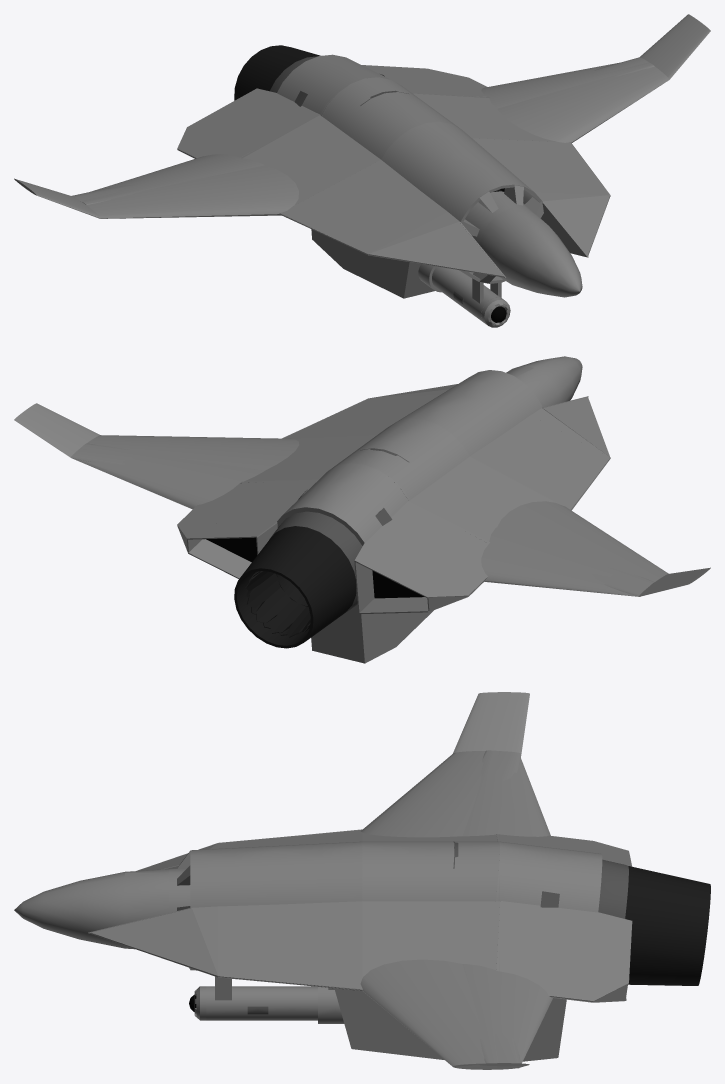
Rendered from !avh2_export.obj.
3 renders of one model, top to bottom at view 1: azimuth 30°, elevation 25°; view 2: azimuth 150°, elevation 25°; view 3: azimuth 270°, elevation 25°, orthographic. The views are drawn at different scales.
Parts seen in each view (by area): view 1: Mesh_22, Mesh_71, Mesh_36, Mesh_2, Mesh_33, Mesh_6, Mesh_17, Mesh_39, Mesh_5, Mesh_3, Mesh_30, Mesh_37 (+19 smaller); view 2: Mesh_41, Mesh_22, Mesh_39, Mesh_71, Mesh_73, Mesh_33, Mesh_6, Mesh_37, Mesh_69, Mesh_36, Mesh_38, Mesh_89 (+21 smaller); view 3: Mesh_17, Mesh_36, Mesh_41, Mesh_32, Mesh_6, Mesh_38, Mesh_2, Mesh_71, Mesh_37, Mesh_69, Mesh_3, Mesh_5 (+15 smaller).
Boxes of the visible parts, left/top/right/bottom form: Mesh_22: left=280, top=160, right=447, bottom=254; Mesh_71: left=72, top=165, right=298, bottom=218; Mesh_36: left=497, top=57, right=669, bottom=142; Mesh_2: left=480, top=207, right=582, bottom=297; Mesh_33: left=240, top=115, right=380, bottom=213; Mesh_6: left=320, top=77, right=461, bottom=159; Mesh_17: left=472, top=138, right=609, bottom=194; Mesh_39: left=177, top=93, right=319, bottom=158; Mesh_5: left=421, top=153, right=542, bottom=283; Mesh_3: left=381, top=121, right=497, bottom=190; Mesh_30: left=368, top=222, right=503, bottom=276; Mesh_37: left=277, top=54, right=399, bottom=116; Mesh_41: left=234, top=526, right=356, bottom=648; Mesh_22: left=470, top=415, right=610, bottom=509; Mesh_39: left=365, top=501, right=489, bottom=595; Mesh_71: left=497, top=501, right=668, bottom=596; Mesh_73: left=481, top=527, right=654, bottom=596; Mesh_33: left=409, top=456, right=557, bottom=543; Mesh_6: left=327, top=418, right=469, bottom=500; Mesh_37: left=277, top=463, right=410, bottom=613; Mesh_69: left=72, top=443, right=264, bottom=509; Mesh_36: left=70, top=435, right=299, bottom=470; Mesh_38: left=177, top=479, right=318, bottom=524; Mesh_89: left=311, top=609, right=395, bottom=663; Mesh_17: left=218, top=901, right=362, bottom=990; Mesh_36: left=360, top=959, right=520, bottom=1066; Mesh_41: left=625, top=866, right=710, bottom=985; Mesh_32: left=362, top=901, right=499, bottom=989; Mesh_6: left=362, top=841, right=499, bottom=901; Mesh_38: left=496, top=901, right=598, bottom=1001; Mesh_2: left=14, top=869, right=168, bottom=949; Mesh_71: left=361, top=751, right=521, bottom=837; Mesh_37: left=496, top=841, right=602, bottom=912; Mesh_69: left=462, top=964, right=552, bottom=1068; Mesh_3: left=276, top=841, right=362, bottom=904; Mesh_5: left=190, top=846, right=276, bottom=970.
Size of the model in its own units: 6.38 by 1.63 by 5.06.
1 material, 1 textured.
